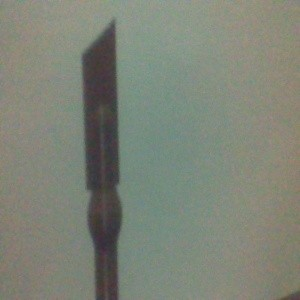cutter: (79, 19, 124, 300)
